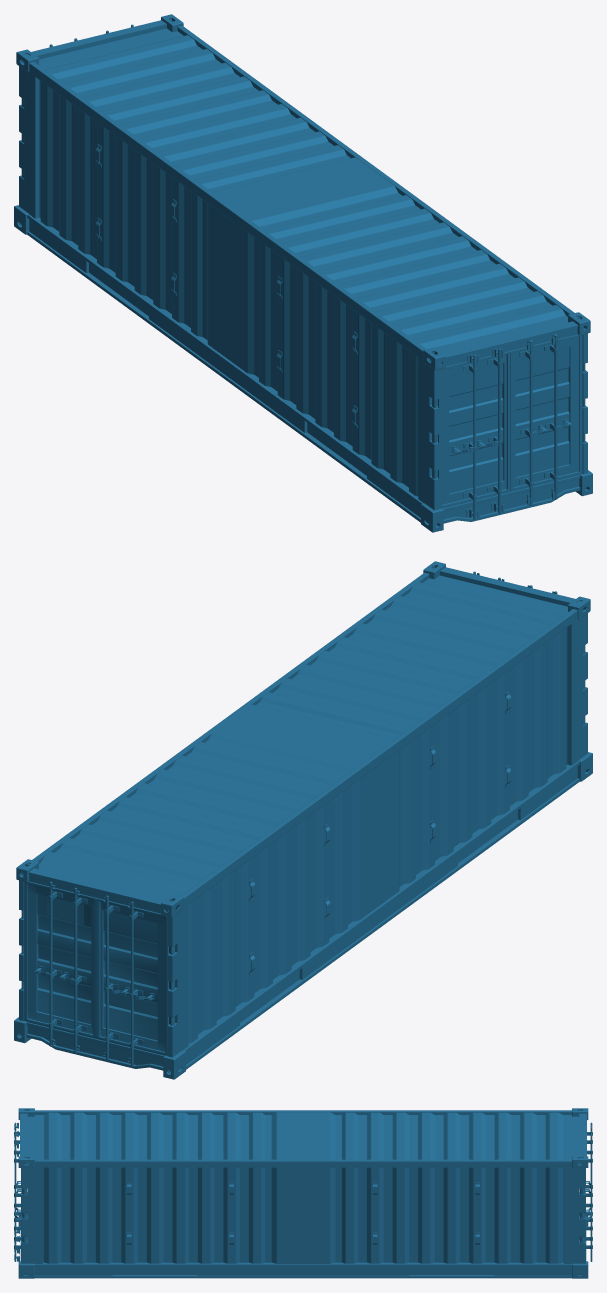
Rendered from container.fbx.
The picture shows the model from 3 angles, top to bottom: view 1: azimuth 30°, elevation 25°; view 2: azimuth 150°, elevation 25°; view 3: azimuth 270°, elevation 25°; orthographic projection. The views are drawn at different scales.
Parts seen in each view (by area): view 1: Container.Container; view 2: Container.Container, Container.Container.002, Container.Container.001; view 3: Container.Container, Container.Container.002.
Boxes of the visible parts, x1,y1,x2,y2 form: Container.Container: (14,14,592,532); Container.Container: (14,561,592,1079); Container.Container.002: (21,881,96,1052); Container.Container.001: (96,895,174,1066); Container.Container: (14,1108,588,1278); Container.Container.002: (579,1141,592,1261).
Bounding box in the file's own units: 271 × 280 × 1243.
